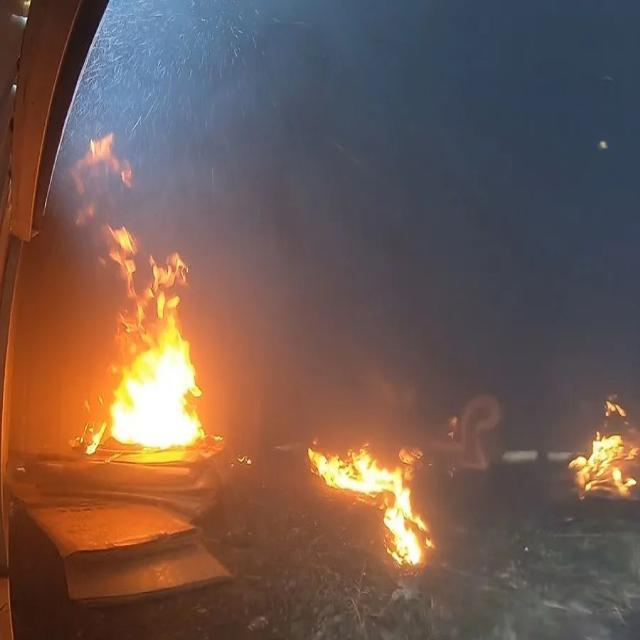Fire: (113, 328, 209, 449), (308, 434, 404, 496), (567, 425, 640, 502), (384, 492, 428, 572)
